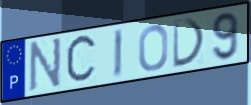9: (211, 10, 240, 62)
C: (64, 31, 99, 88)
D: (172, 17, 208, 71)
I: (112, 27, 125, 80)
N: (27, 35, 63, 94)
O: (137, 23, 169, 73)
